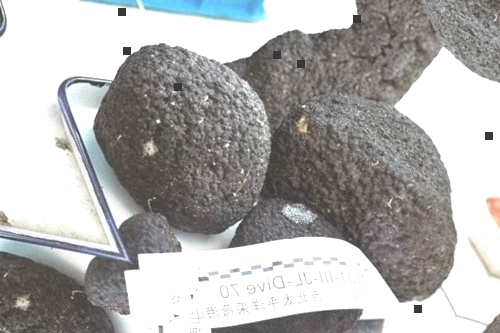halobolite: (268, 97, 454, 302), (93, 44, 294, 232), (273, 1, 426, 171), (74, 210, 187, 312), (2, 251, 107, 333)
